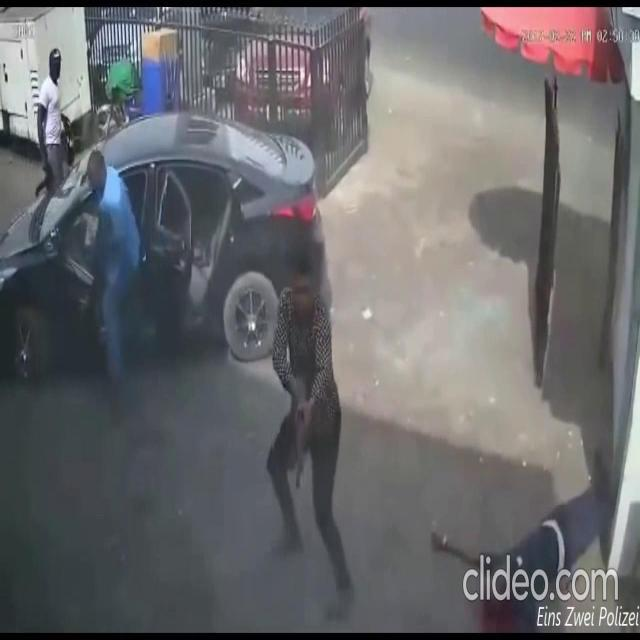pistol: (294, 374, 308, 492), (37, 141, 55, 203)
